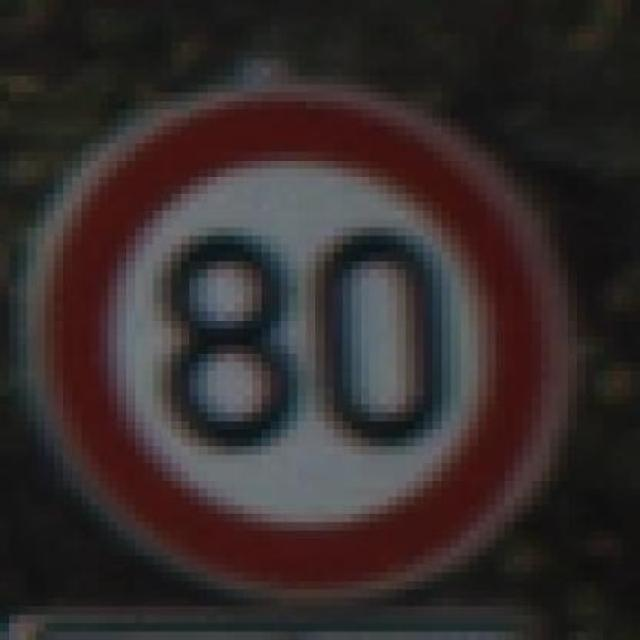forb_speed_over_80: (32, 92, 559, 596)
